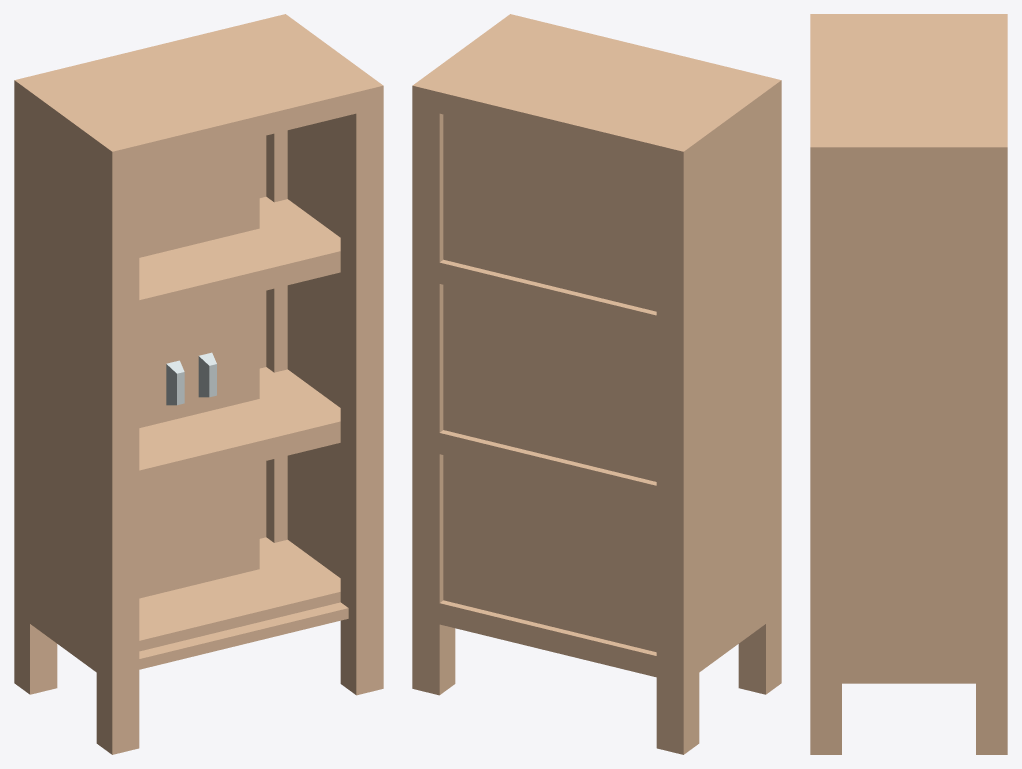
The model's file is bookcaseClosedDoors.glb.
3 views of the same model, side by side, from view 1: azimuth 30°, elevation 25°; view 2: azimuth 150°, elevation 25°; view 3: azimuth 270°, elevation 25° (orthographic).
Visible parts, largest first — view 1: bookcaseClosedDoors, bookcaseClosedDoors.001, bookcaseClosedDoors.002; view 2: bookcaseClosedDoors; view 3: bookcaseClosedDoors.
Part boxes in pixels (bbox=[...]): bookcaseClosedDoors: bbox=[14, 14, 383, 754]; bookcaseClosedDoors.001: bbox=[139, 145, 227, 598]; bookcaseClosedDoors.002: bbox=[151, 137, 259, 576]; bookcaseClosedDoors: bbox=[412, 14, 781, 754]; bookcaseClosedDoors: bbox=[810, 14, 1007, 754].
Bounding box in the file's own units: 1.16 × 2.46 × 0.725.
